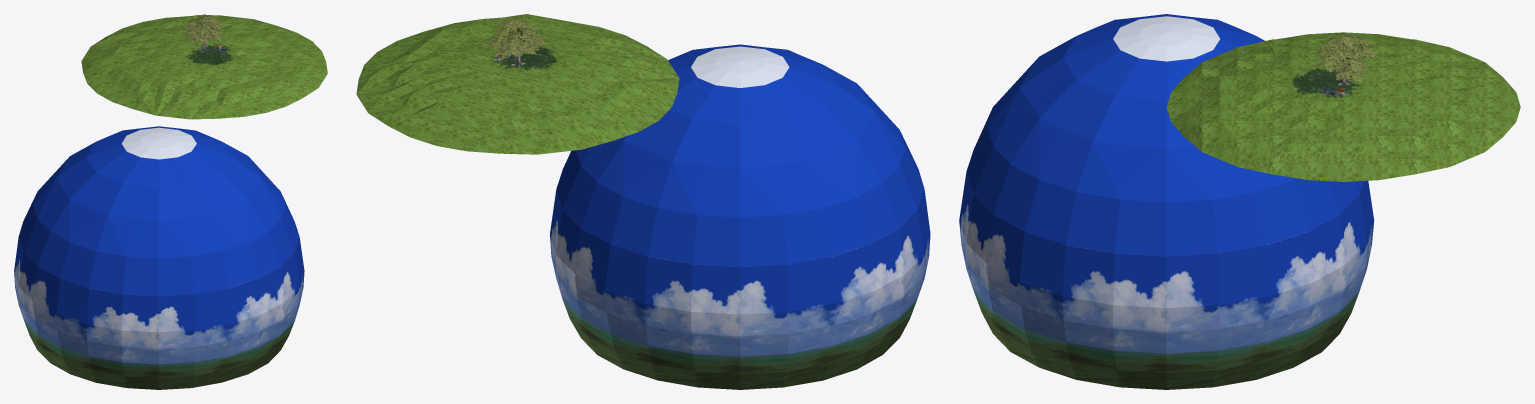
The model's file is MAP212.obj.
3 renders of one model, left to right at view 1: azimuth 30°, elevation 25°; view 2: azimuth 150°, elevation 25°; view 3: azimuth 270°, elevation 25°, orthographic. The views are drawn at different scales.
Parts seen in each view (by area): view 1: mesh_0, mesh_8, mesh_5, mesh_1, mesh_4, mesh_11, mesh_10; view 2: mesh_0, mesh_8, mesh_5, mesh_1, mesh_11, mesh_4, mesh_10; view 3: mesh_0, mesh_8, mesh_5, mesh_1, mesh_11, mesh_4, mesh_10.
Part boxes in pixels (left/top/right/bottom): mesh_0: left=14, top=126, right=304, bottom=364; mesh_8: left=81, top=15, right=327, bottom=119; mesh_5: left=103, top=19, right=305, bottom=104; mesh_1: left=24, top=321, right=294, bottom=389; mesh_4: left=183, top=43, right=244, bottom=69; mesh_11: left=180, top=14, right=227, bottom=44; mesh_10: left=185, top=15, right=219, bottom=42; mesh_0: left=550, top=44, right=930, bottom=356; mesh_8: left=356, top=14, right=679, bottom=154; mesh_5: left=385, top=19, right=650, bottom=135; mesh_1: left=562, top=299, right=917, bottom=389; mesh_11: left=484, top=18, right=547, bottom=60; mesh_4: left=486, top=46, right=569, bottom=70; mesh_10: left=494, top=17, right=541, bottom=56; mesh_0: left=959, top=14, right=1374, bottom=353; mesh_8: left=1166, top=32, right=1520, bottom=181; mesh_5: left=1237, top=46, right=1449, bottom=143; mesh_1: left=974, top=291, right=1359, bottom=389; mesh_11: left=1313, top=35, right=1377, bottom=82; mesh_4: left=1290, top=68, right=1361, bottom=99; mesh_10: left=1316, top=33, right=1370, bottom=77.
Size of the model in its own units: 812 by 566 by 812.
Materials: 11 (11 with a texture image).
